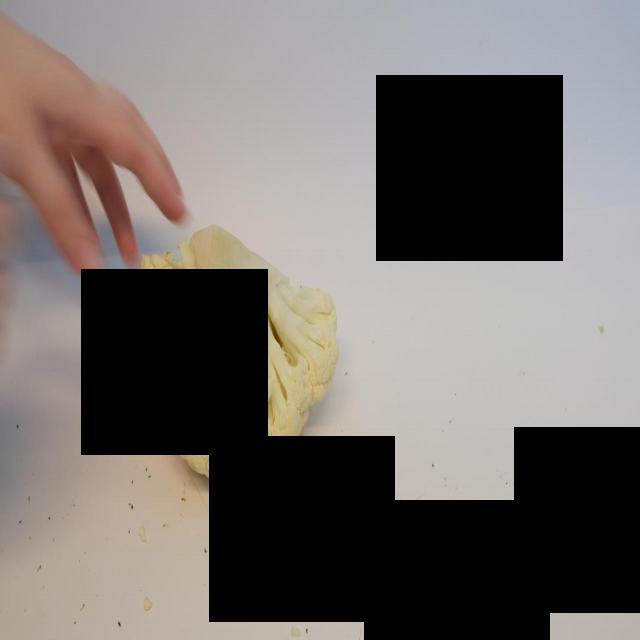cauliflower: (133, 222, 339, 482)
